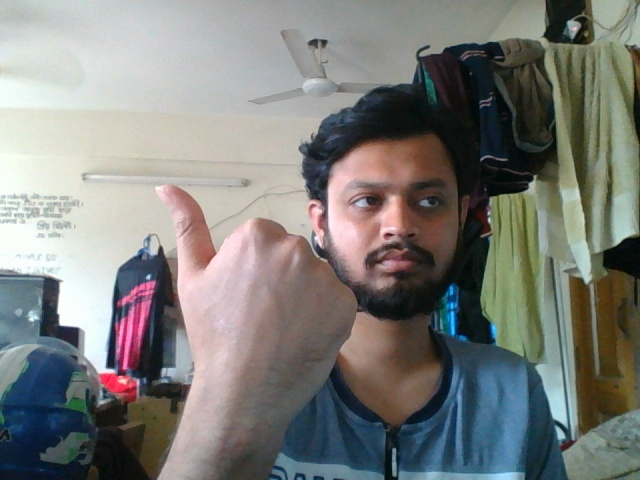do: (143, 175, 371, 480)
